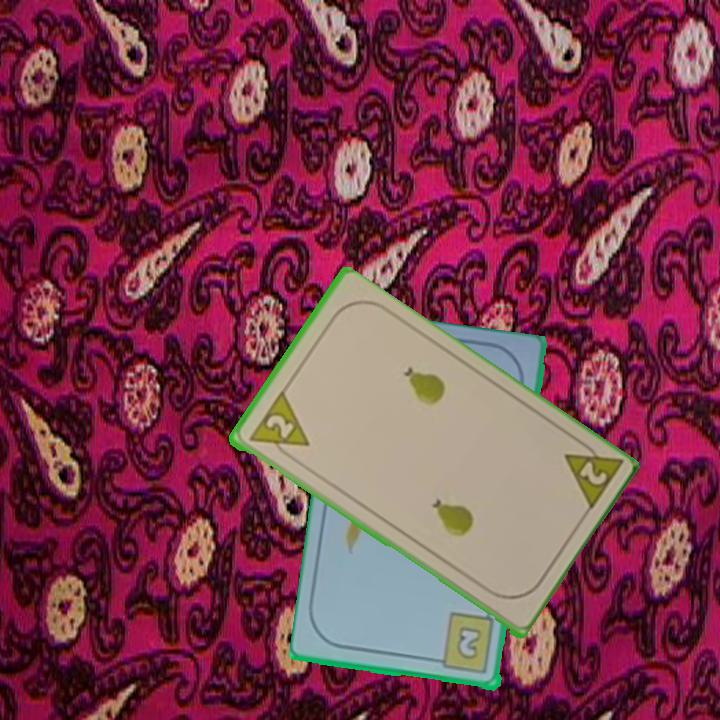2b: (430, 610, 498, 677)
2p: (559, 433, 625, 516), (245, 389, 312, 464)
